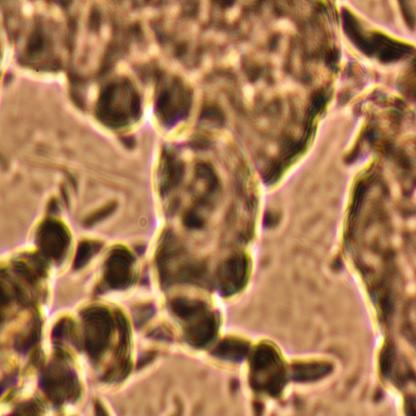Normal: (22, 0, 416, 376)
